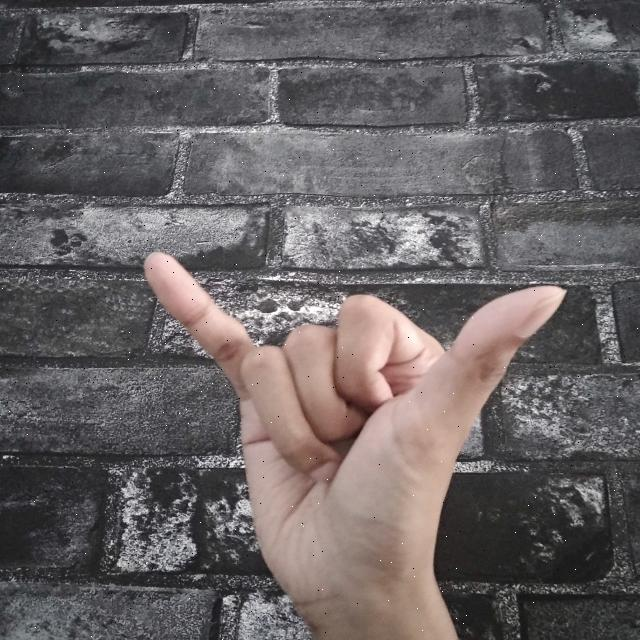Y: (136, 242, 570, 640)
